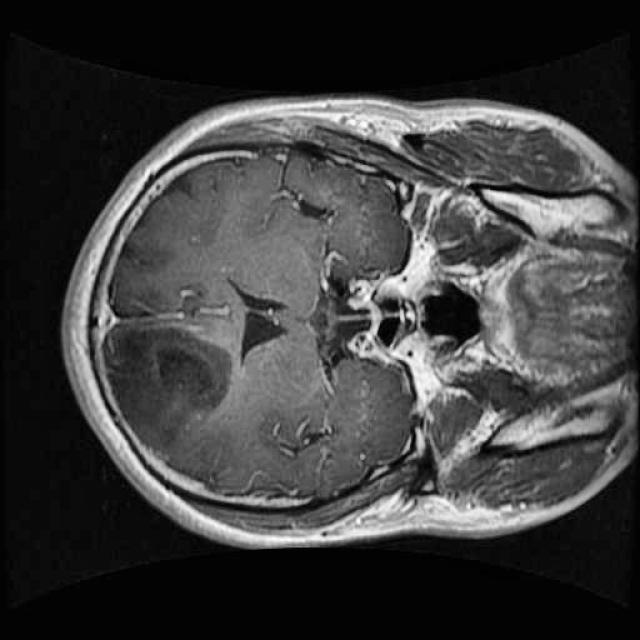Non-Tumor: (85, 310, 251, 469)
